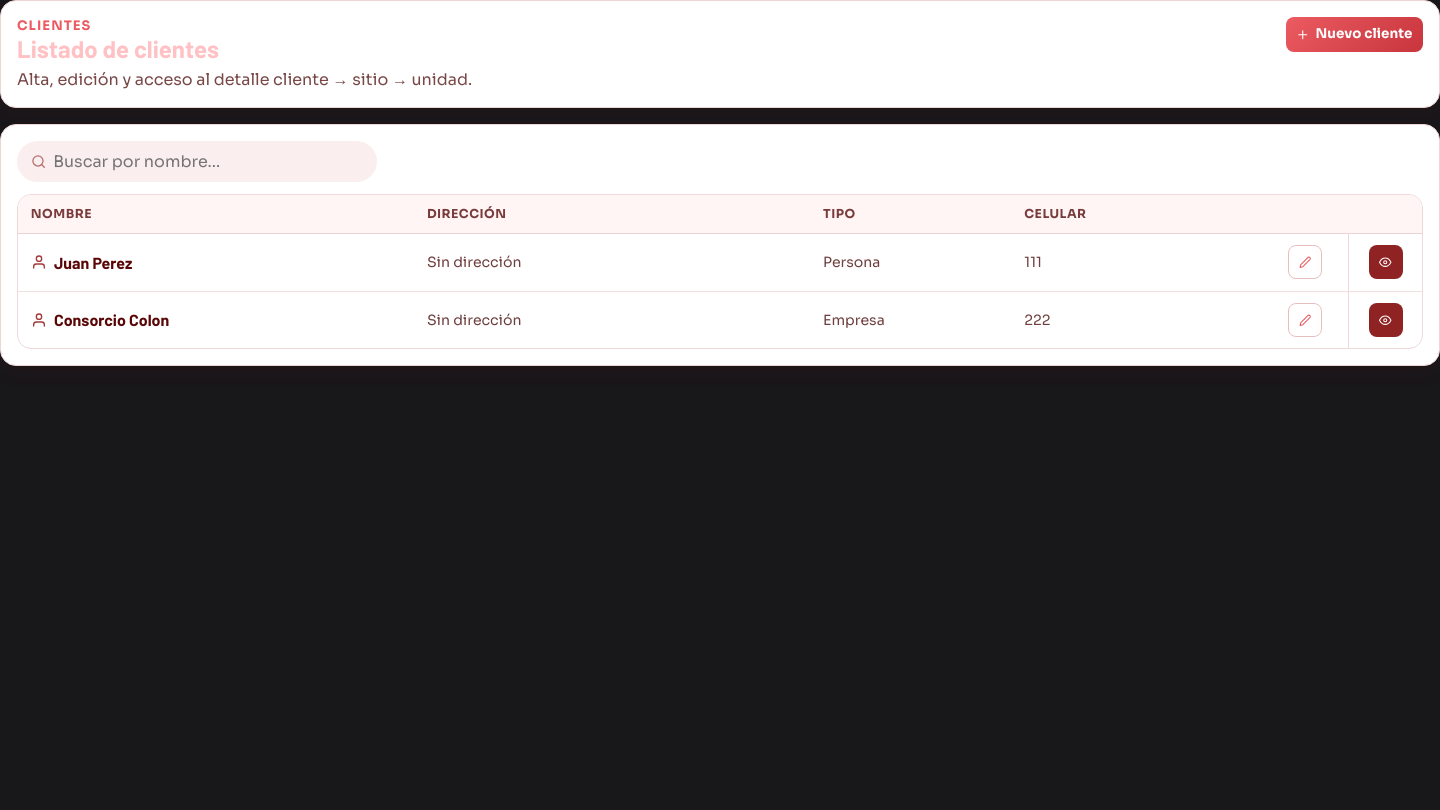
Test: ClientesPage › al editar un cliente, precarga el select de Tipo con el valor real del cliente (no siempre "persona")
The image size is (1440, 810).
Expected: the text "Consorcio Colon" is shown, x1=31 y1=310 x2=169 y2=329
Click the button named "Editar cliente Consorcio Colon": (1305, 320) x1=1288 y1=303 x2=1322 y2=337
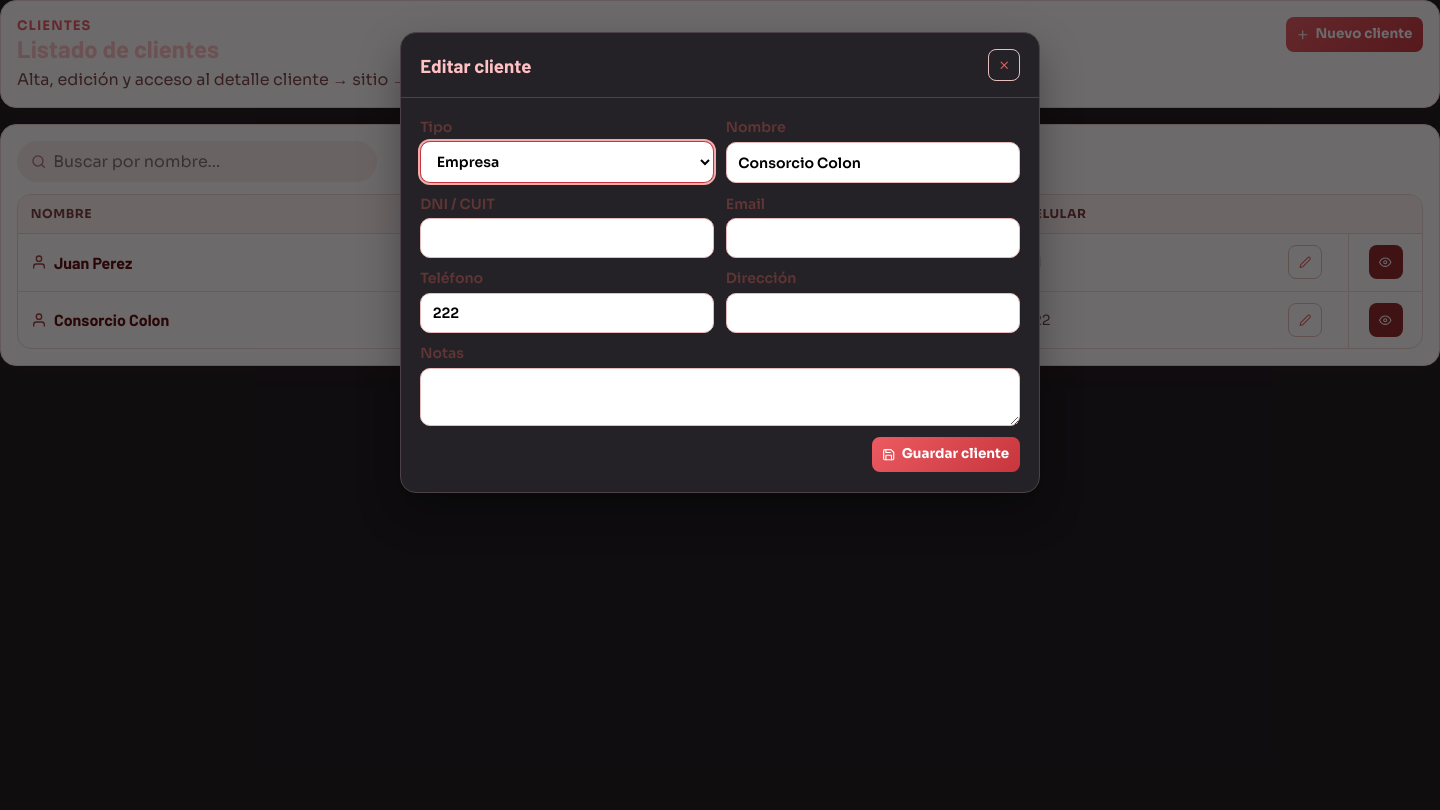
Result: the dropdown labelled "Tipo" shows "Empresa" at x1=420 y1=141 x2=714 y2=183
